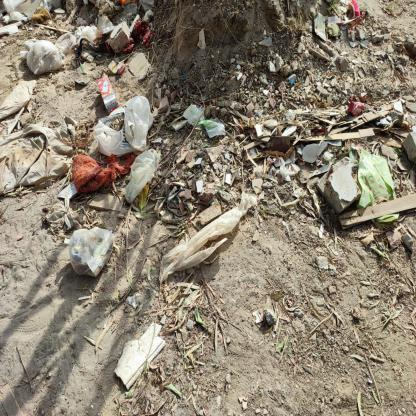Garbage: (39, 3, 416, 260)
